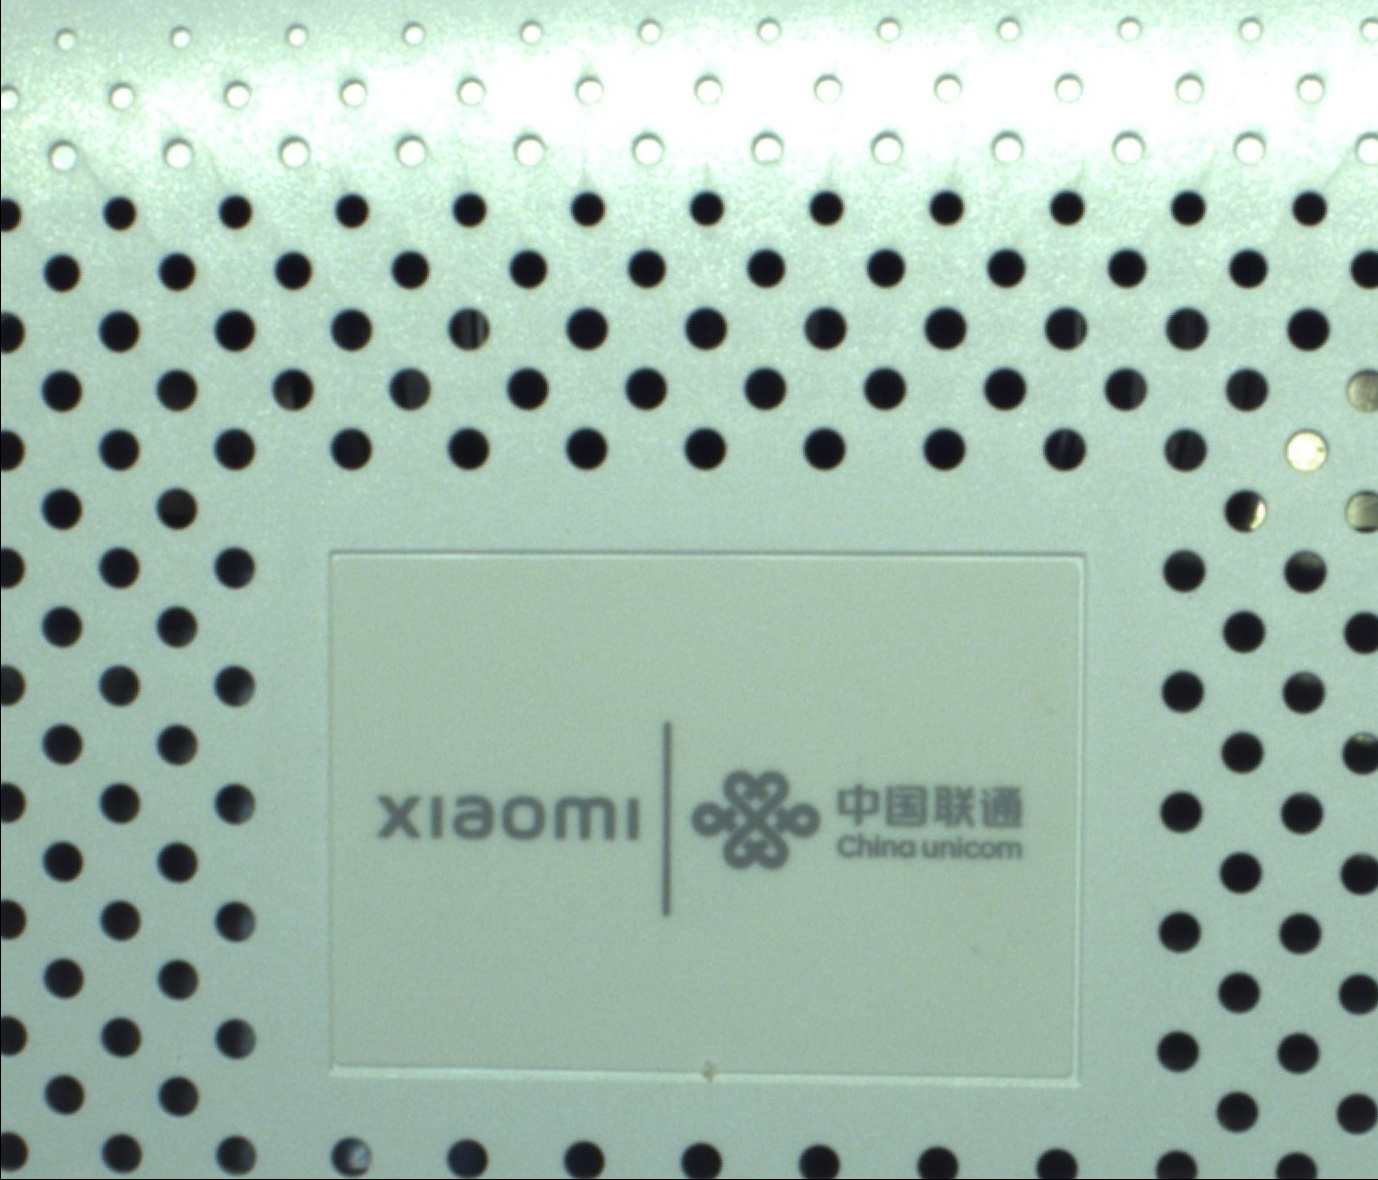MAC_NewUnicom: (368, 719, 1036, 924)
